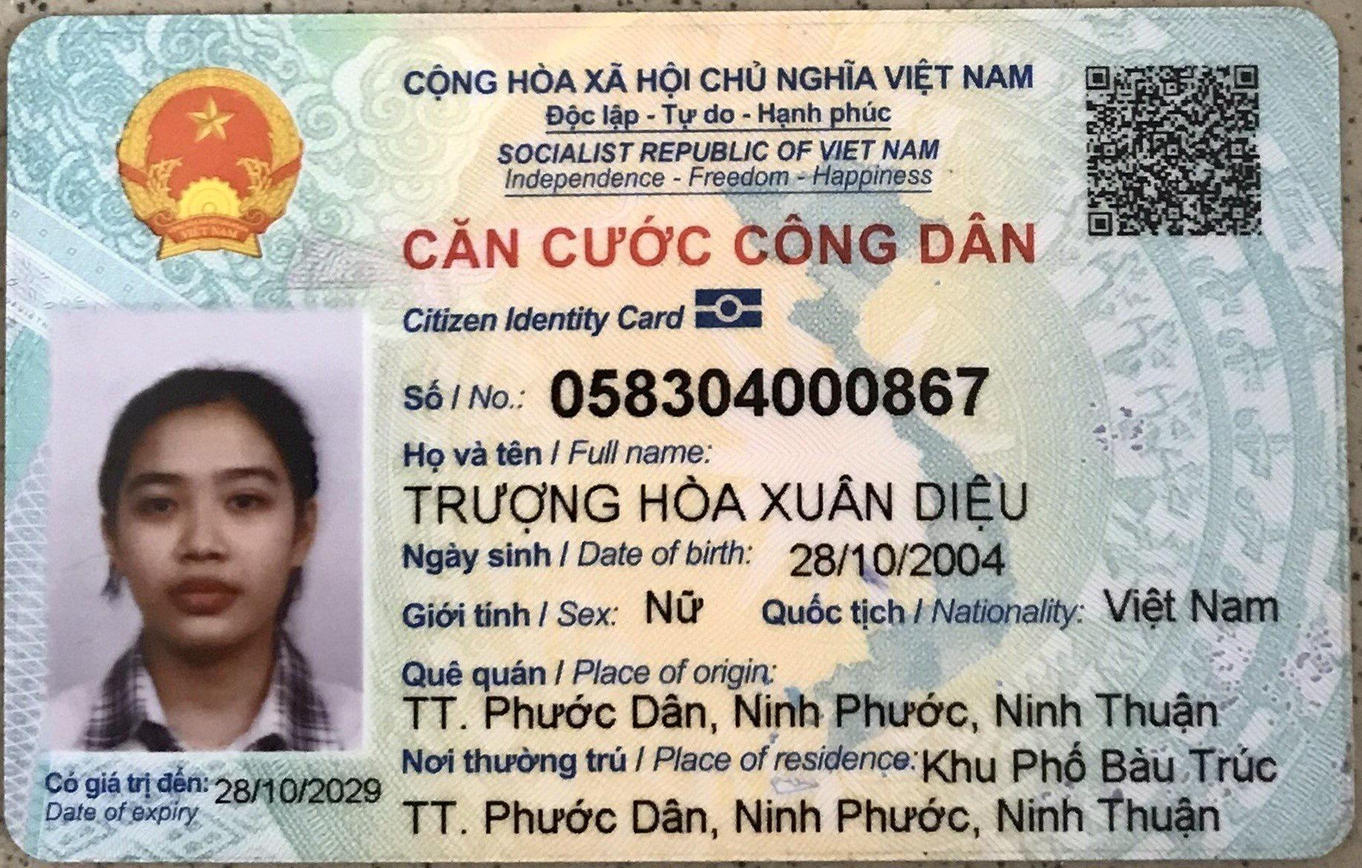ID: (532, 352, 997, 431)
birth: (773, 530, 1022, 587)
name: (392, 465, 1043, 539)
place: (387, 679, 1244, 742)
residence: (398, 781, 1235, 855), (913, 740, 1287, 795)
